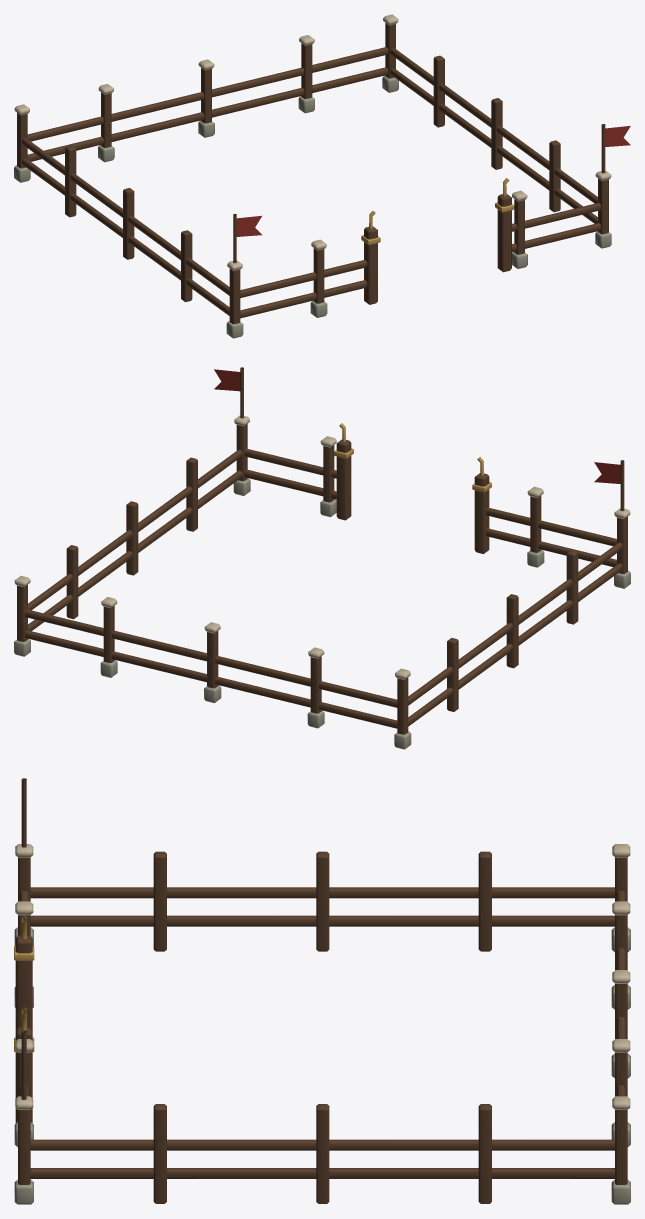
The model's file is yard.glb.
3 views of the same model, one above another, from view 1: azimuth 30°, elevation 25°; view 2: azimuth 150°, elevation 25°; view 3: azimuth 270°, elevation 25° (orthographic). The views are drawn at different scales.
Visible parts, largest first — view 1: yard-exterior; view 2: yard-exterior; view 3: yard-exterior.
Boxes of the visible parts, x1,y1,x2,y2 form: yard-exterior: (14, 14, 630, 338); yard-exterior: (14, 367, 630, 749); yard-exterior: (14, 778, 630, 1204).
Size of the model in its own units: 5.41 by 1.56 by 5.12.
